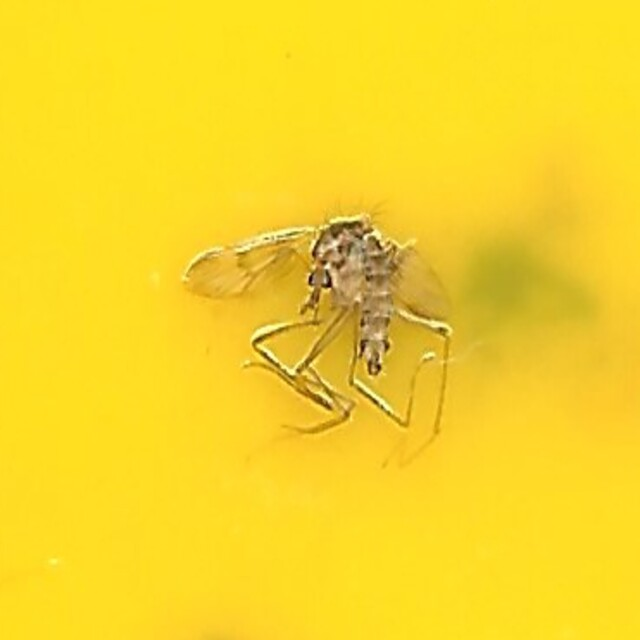Nematocera: (173, 208, 467, 432)
